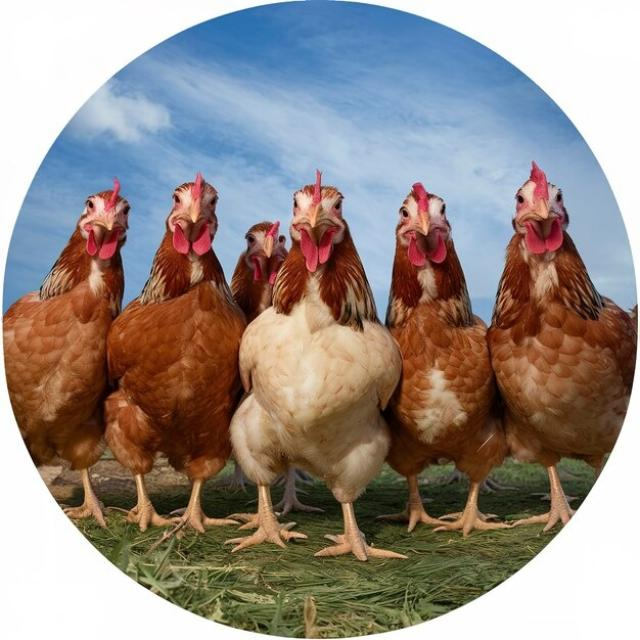Chicken: (233, 169, 400, 564), (487, 158, 640, 531), (105, 173, 252, 535), (3, 174, 131, 526), (386, 179, 511, 537), (221, 207, 293, 321)
